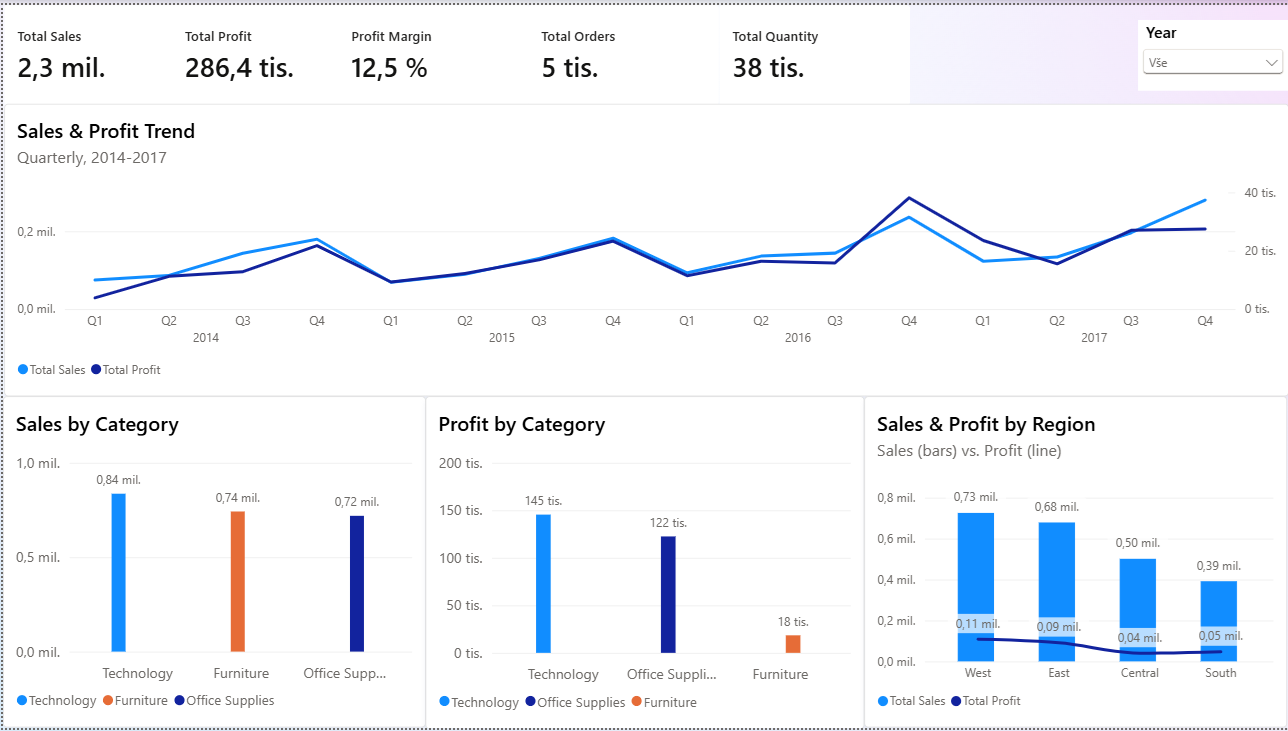

This screenshot's page, from the dashboard's own definition file:
{"tool":"powerbi","page":{"name":"Executive Overview","canvas":[1280,720],"ordinal":0},"visuals":[{"type":"cardVisual","fields":{"Data":["Orders.Total Sales"]},"box":[0.9,0,190,100],"z":0},{"type":"cardVisual","fields":{"Data":["Orders.Total Quantity"]},"box":[712.2,0,190,100],"z":1000},{"type":"cardVisual","fields":{"Data":["Orders.Total Profit"]},"box":[167.4,0,190,100],"z":2000},{"type":"cardVisual","fields":{"Data":["Orders.Total Orders"]},"box":[522.8,0,190,100],"z":3000},{"type":"cardVisual","fields":{"Data":["Orders.Profit Margin"]},"box":[333.8,0,190,100],"z":4000},{"type":"lineChart","title":"Sales & Profit Trend","fields":{"Y2":["Orders.Total Profit"],"Y":["Orders.Total Sales"],"Category":["DimDate.Year Hierarchie.Year","DimDate.Year Hierarchie.Quarter","DimDate.Year Hierarchie.Month","DimDate.Year Hierarchie.Month number"]},"box":[1.2,98.3,1278.8,291.1],"z":5000},{"type":"clusteredColumnChart","title":"Sales by Category","fields":{"Category":["Orders.Category"],"Y":["Orders.Total Sales"],"Series":["Orders.Category"]},"box":[0,389.4,420.5,329.6],"z":6000},{"type":"clusteredColumnChart","title":"Profit by Category","fields":{"Category":["Orders.Category"],"Y":["Orders.Total Profit"],"Series":["Orders.Category"]},"box":[420.5,389.4,436.6,330.9],"z":7000},{"type":"lineClusteredColumnComboChart","title":"Sales & Profit by Region","fields":{"Category":["Orders.Region"],"Y":["Orders.Total Sales"],"Y2":["Orders.Total Profit"]},"box":[857.1,389.4,420.5,329.6],"z":8000},{"type":"slicer","fields":{"Values":["DimDate.Year"]},"box":[1129.5,14.9,150,70],"z":9000}]}

Visuals, with their boxes in screenshot pixels (x1, y1, x2, y2), scaled from the page's 1280x720 canvas onto the 1288x731 screenshot:
cardVisual - Orders.Total Sales: [1, 0, 192, 102]
cardVisual - Orders.Total Quantity: [717, 0, 908, 102]
cardVisual - Orders.Total Profit: [168, 0, 360, 102]
cardVisual - Orders.Total Orders: [526, 0, 717, 102]
cardVisual - Orders.Profit Margin: [336, 0, 527, 102]
"Sales & Profit Trend" lineChart: [1, 100, 1287, 395]
"Sales by Category" clusteredColumnChart: [0, 395, 423, 730]
"Profit by Category" clusteredColumnChart: [423, 395, 862, 730]
"Sales & Profit by Region" lineClusteredColumnComboChart: [862, 395, 1286, 730]
slicer - DimDate.Year: [1137, 15, 1287, 86]
